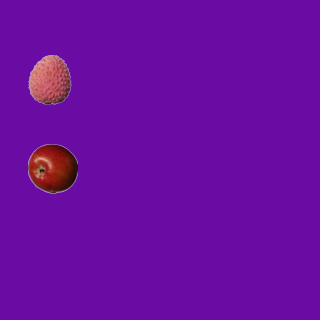Apple Braeburn: (27, 143, 77, 193)
Lychee: (24, 54, 74, 104)
